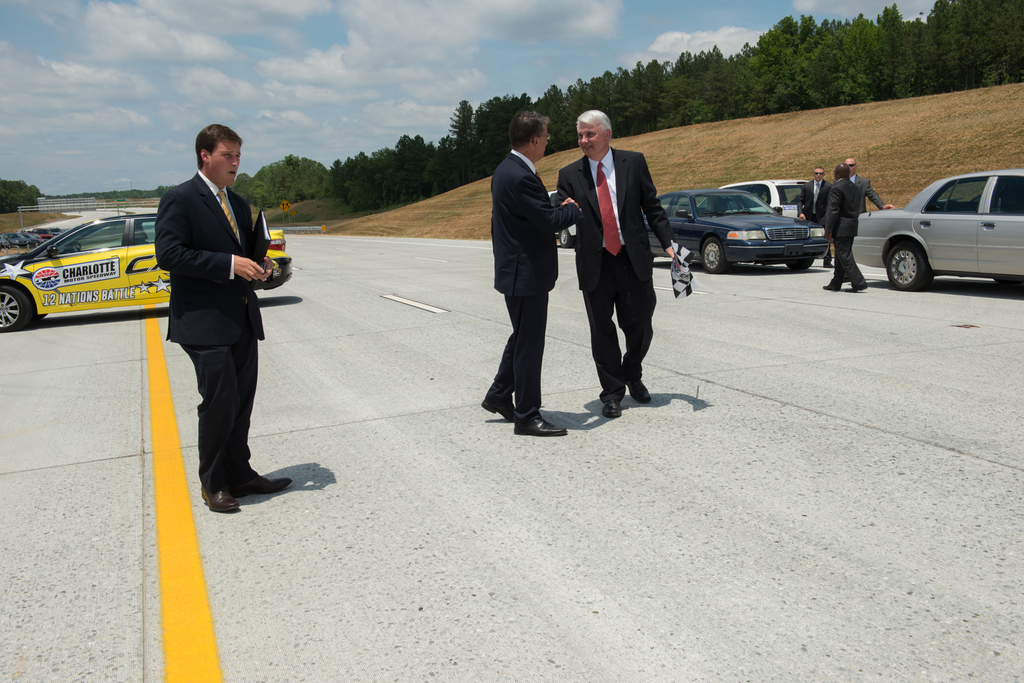Car: (0, 216, 287, 329), (842, 165, 1023, 282), (670, 179, 846, 271), (720, 178, 805, 216)
